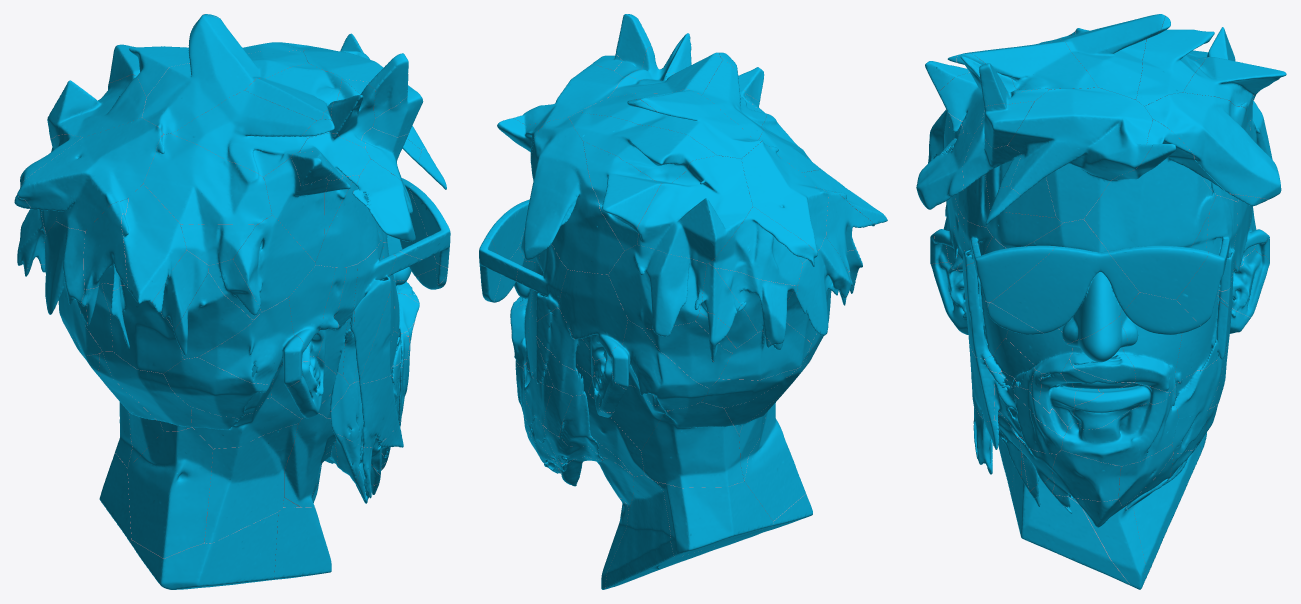
The model's file is carlos-3-optimized.glb.
3 renders of one model, left to right at view 1: azimuth 30°, elevation 25°; view 2: azimuth 150°, elevation 25°; view 3: azimuth 270°, elevation 25°, orthographic. The views are drawn at different scales.
Visible parts, largest first — view 1: result_cell.054, result_cell.039, result_cell.064, result_cell.015, result_cell.071, result_cell.016, result_cell.003, result_cell.070, result_cell.033, result_cell.014, result_cell.046, result_cell.075 (+42 smaller); view 2: result_cell.011, result_cell.073, result_cell.068, result_cell.053, result_cell.087, result_cell.064, result_cell.054, result_cell.083, result_cell.093, result_cell.099, result_cell.066, result_cell.041 (+39 smaller); view 3: result_cell.018, result_cell.052, result_cell.022, result_cell.011, result_cell.002, result_cell.013, result_cell.064, result_cell.095, result_cell.083, result_cell.003, result_cell.130, result_cell.031 (+45 smaller).
Boxes of the visible parts, x1,y1,x2,y2 form: result_cell.054: (17,118,163,231); result_cell.039: (127,427,213,558); result_cell.064: (142,15,307,134); result_cell.015: (143,133,271,224); result_cell.071: (204,423,297,543); result_cell.016: (171,90,316,176); result_cell.003: (315,159,415,267); result_cell.070: (130,512,278,589); result_cell.033: (121,184,186,303); result_cell.014: (198,297,304,387); result_cell.046: (233,215,315,311); result_cell.075: (101,283,183,373); result_cell.011: (521,117,623,274); result_cell.073: (637,155,752,263); result_cell.068: (641,402,744,487); result_cell.053: (608,244,706,336); result_cell.087: (657,481,773,556); result_cell.064: (579,88,762,158); result_cell.054: (741,141,828,262); result_cell.083: (568,112,716,183); result_cell.093: (605,475,735,588); result_cell.099: (709,206,817,285); result_cell.066: (557,252,627,360); result_cell.041: (583,141,662,250); result_cell.018: (1008,87,1152,222); result_cell.052: (1084,119,1224,251); result_cell.022: (991,216,1139,343); result_cell.011: (1145,92,1281,201); result_cell.002: (1011,466,1131,586); result_cell.013: (1061,390,1178,466); result_cell.064: (1060,14,1164,99); result_cell.095: (966,40,1098,90); result_cell.083: (1136,29,1214,168); result_cell.003: (916,133,990,226); result_cell.130: (1108,245,1208,299); result_cell.031: (962,122,1056,217).
Bounding box in the file's own units: 5.67 × 8 × 4.88.
